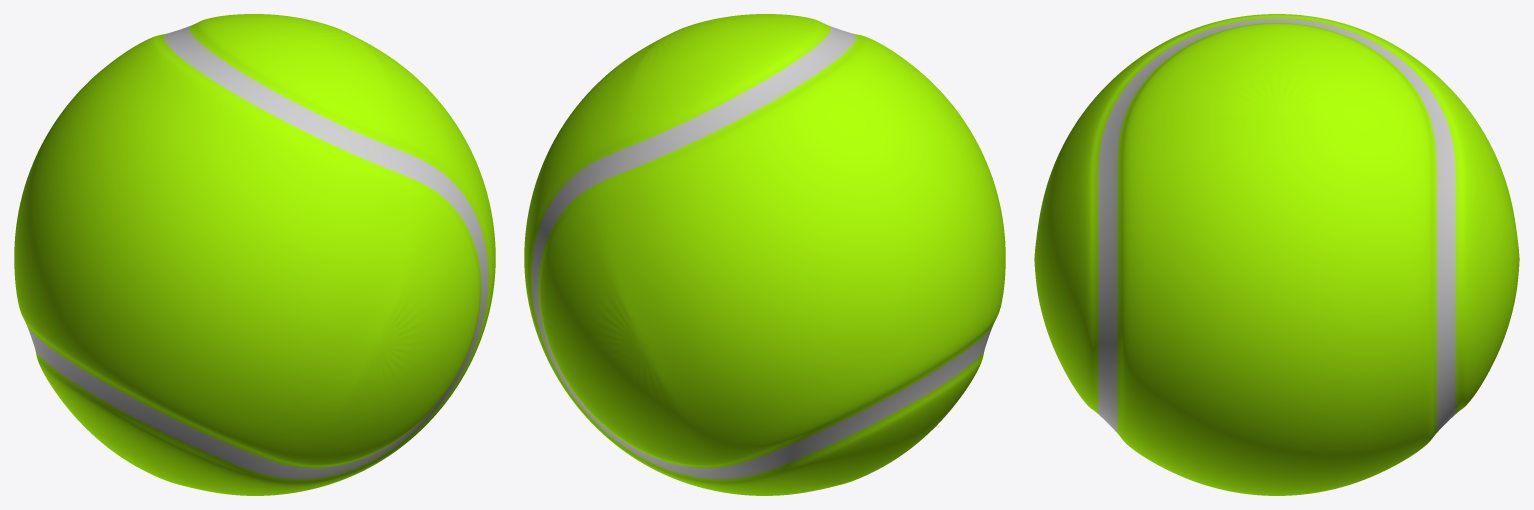
Rendered from ball.obj.
The picture shows the model from 3 angles, left to right: view 1: azimuth 30°, elevation 25°; view 2: azimuth 150°, elevation 25°; view 3: azimuth 270°, elevation 25°; orthographic projection.
Parts seen in each view (by area): view 1: Sphere; view 2: Sphere; view 3: Sphere.
Boxes of the visible parts, left/top/right/bottom form: Sphere: left=14, top=14, right=495, bottom=495; Sphere: left=524, top=14, right=1005, bottom=495; Sphere: left=1034, top=14, right=1519, bottom=495.
Bounding box in the file's own units: 1.4 × 1.41 × 1.41.
